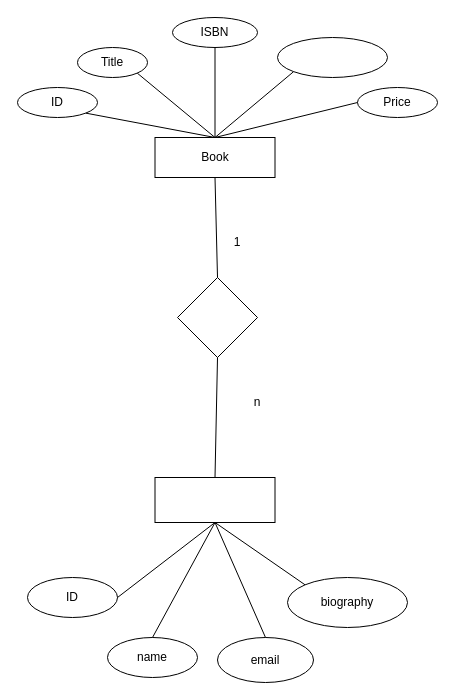
Some shapes in this 455 by 700 pixel diagram are drawn without their labels. Here are the shapes that lost their labels. From the top down, the centre of each, then its label:
(x=332, y=57): yearOfPublication
(x=214, y=499): Author
